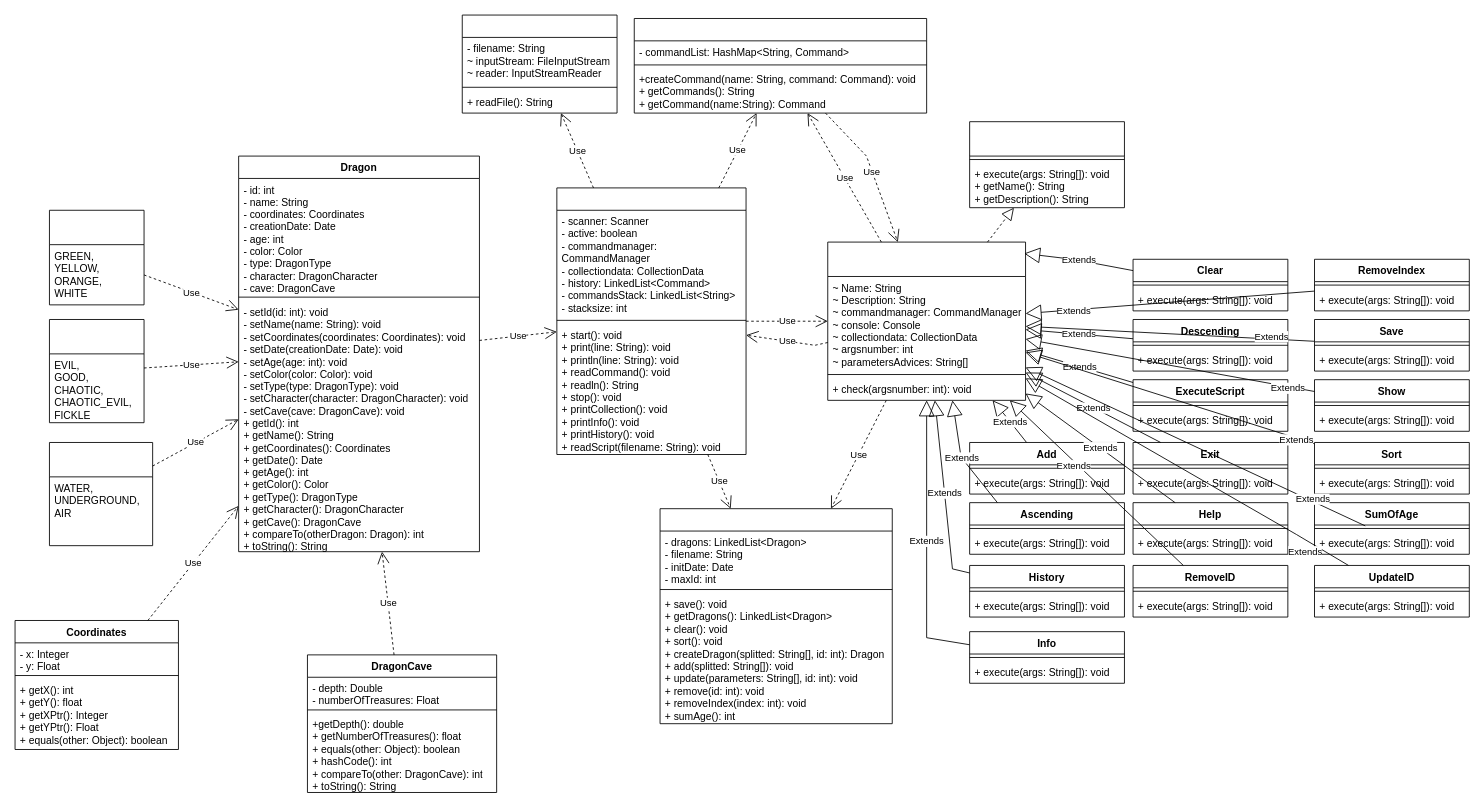
The diagram is 1484 pixels wide and 810 high, and some of its shapes have lost their labels. The shapes that lost their labels are listed below. From the top down, each one's box as (x1, y1, x2, y2) in pixels, then its label:
(461, 14, 617, 113): ScriptReader
(633, 18, 927, 113): CommandManager
(969, 121, 1124, 208): <<Interface>> Executable
(49, 209, 144, 305): <<Enumeration>> Color
(556, 187, 746, 455): Console
(827, 241, 1026, 400): <<Abstract>> Command
(49, 319, 144, 423): <<Enumeration>> DragonCharacter
(49, 442, 153, 546): <<Enumeration>> DragonType
(659, 508, 892, 724): CollectionData
